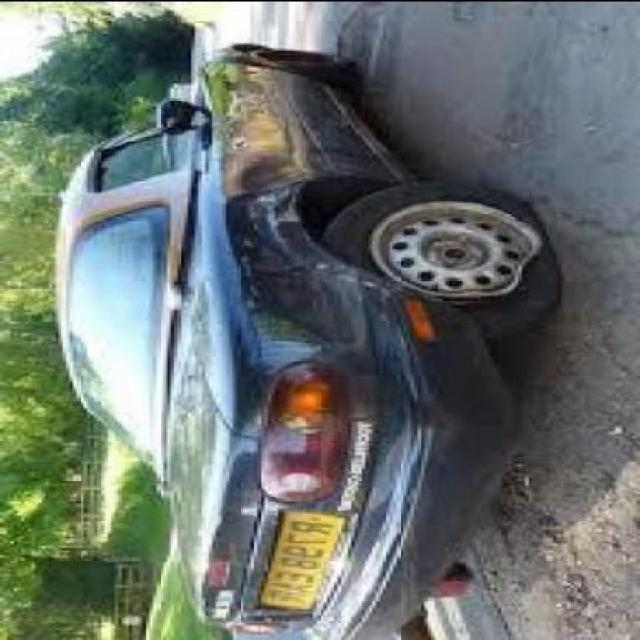damage: (245, 260, 420, 370)
